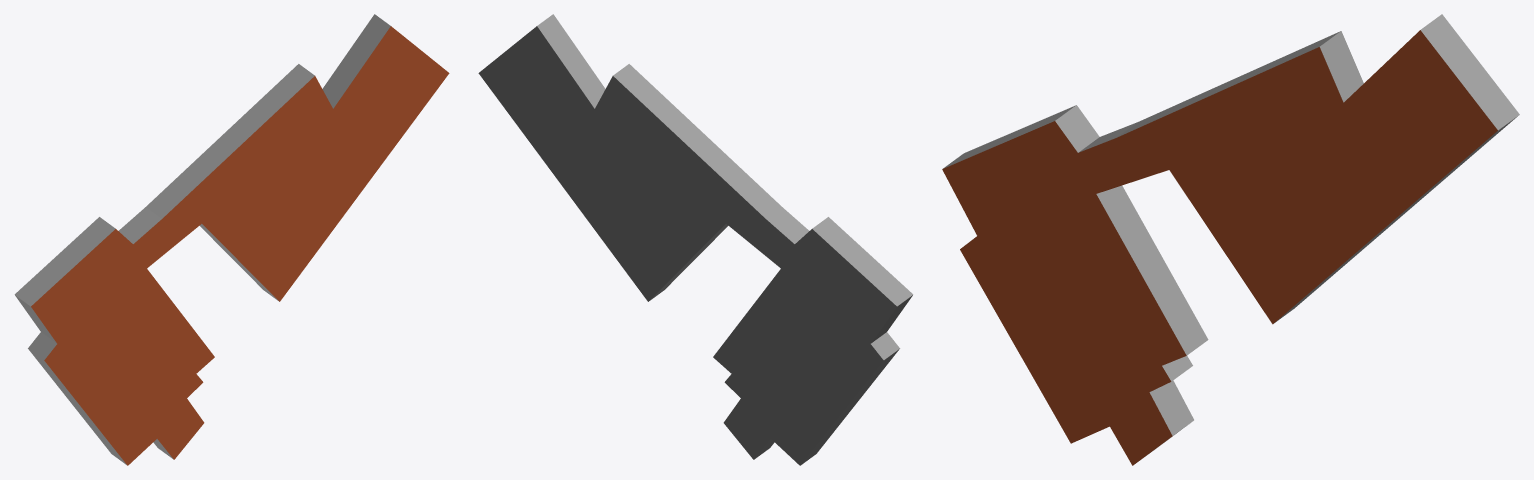
The model's file is construction_2205_assumed_A_Casa_h6m.obj.
3 views of the same model, side by side, from view 1: azimuth 30°, elevation 25°; view 2: azimuth 150°, elevation 25°; view 3: azimuth 330°, elevation 25° (orthographic). The views are drawn at different scales.
Parts seen in each view (by area): view 1: construction_2205_assumed_A_Casa; view 2: construction_2205_assumed_A_Casa; view 3: construction_2205_assumed_A_Casa.
Boxes of the visible parts, x1,y1,x2,y2 form: construction_2205_assumed_A_Casa: [14, 14, 449, 465]; construction_2205_assumed_A_Casa: [478, 14, 913, 465]; construction_2205_assumed_A_Casa: [942, 14, 1519, 465].
Size of the model in its own units: 88.42 by 76.93 by 6.
